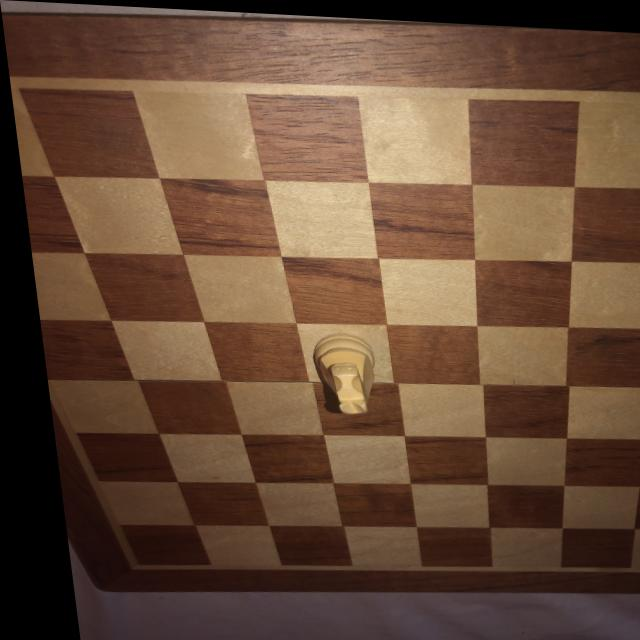white_knight: (299, 325, 373, 417)
